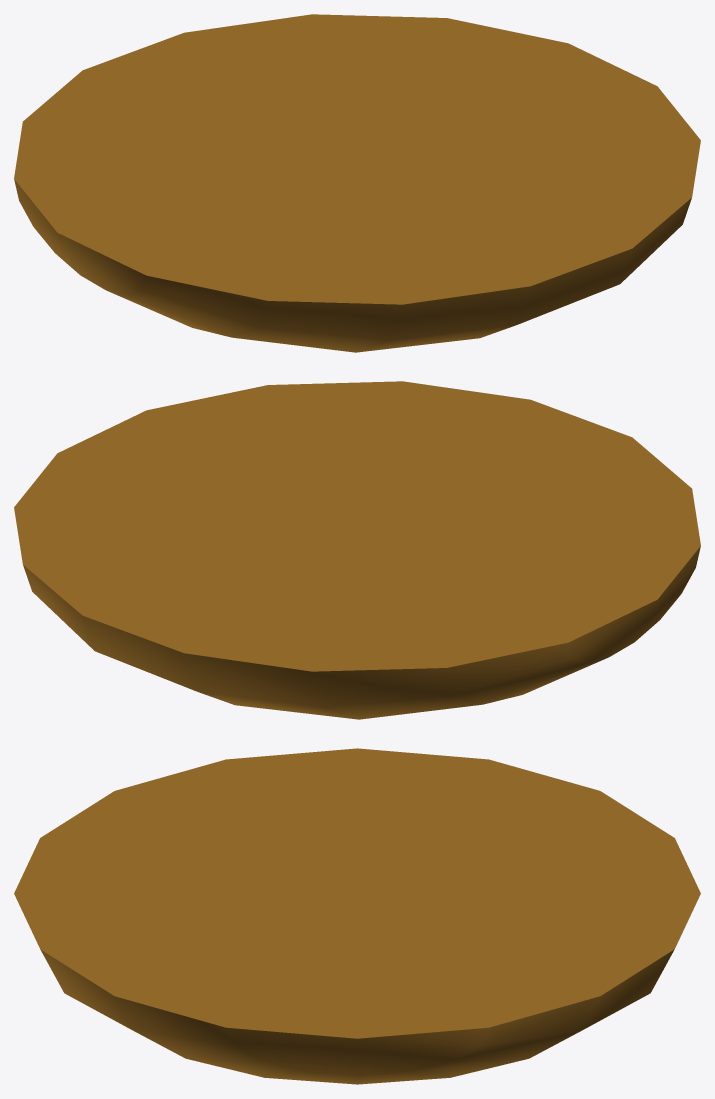
The model's file is BanBottom.FBX.
3 renders of one model, top to bottom at view 1: azimuth 30°, elevation 25°; view 2: azimuth 150°, elevation 25°; view 3: azimuth 270°, elevation 25°, orthographic.
Parts seen in each view (by area): view 1: BanBottom; view 2: BanBottom; view 3: BanBottom.
Boxes of the visible parts, x1,y1,x2,y2 form: BanBottom: (14,14,700,352); BanBottom: (14,381,700,719); BanBottom: (14,748,700,1084).
Bounding box in the file's own units: 3.03 × 0.6078 × 3.03.
